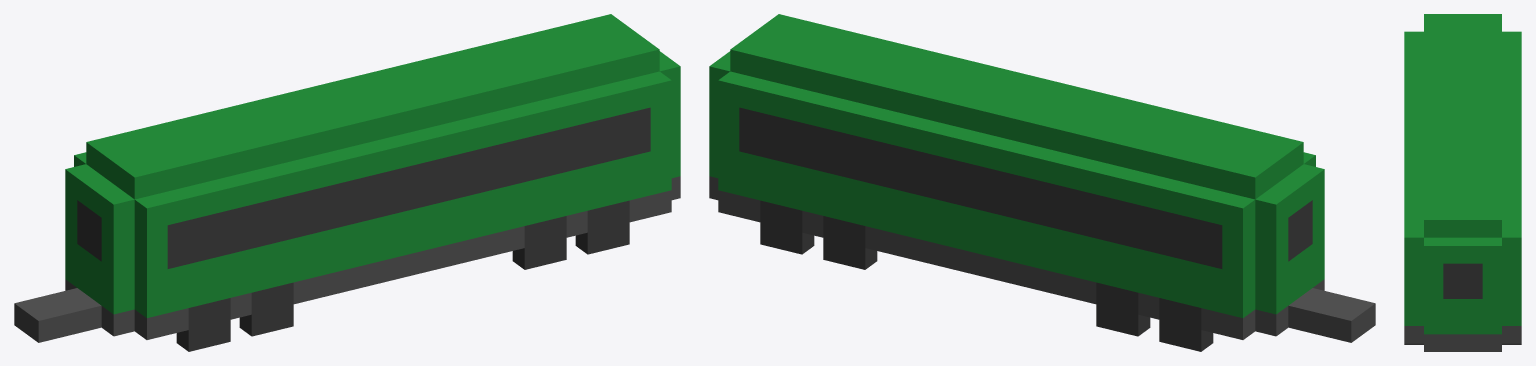
The model's file is train-trailer-v5-green.gltf.
3 renders of one model, left to right at view 1: azimuth 30°, elevation 25°; view 2: azimuth 150°, elevation 25°; view 3: azimuth 270°, elevation 25°, orthographic. The views are drawn at different scales.
Visible parts, largest first — view 1: model, wheels; view 2: model, wheels; view 3: model.
Part boxes in pixels (box(x1,y1,x2,y2)): model: box(14, 14, 680, 342); wheels: box(176, 200, 629, 351); model: box(709, 14, 1375, 342); wheels: box(760, 200, 1213, 351); model: box(1404, 14, 1521, 351).
Bounding box in the file's own units: 3 × 0.8 × 0.6.
2 materials, 2 textured.
